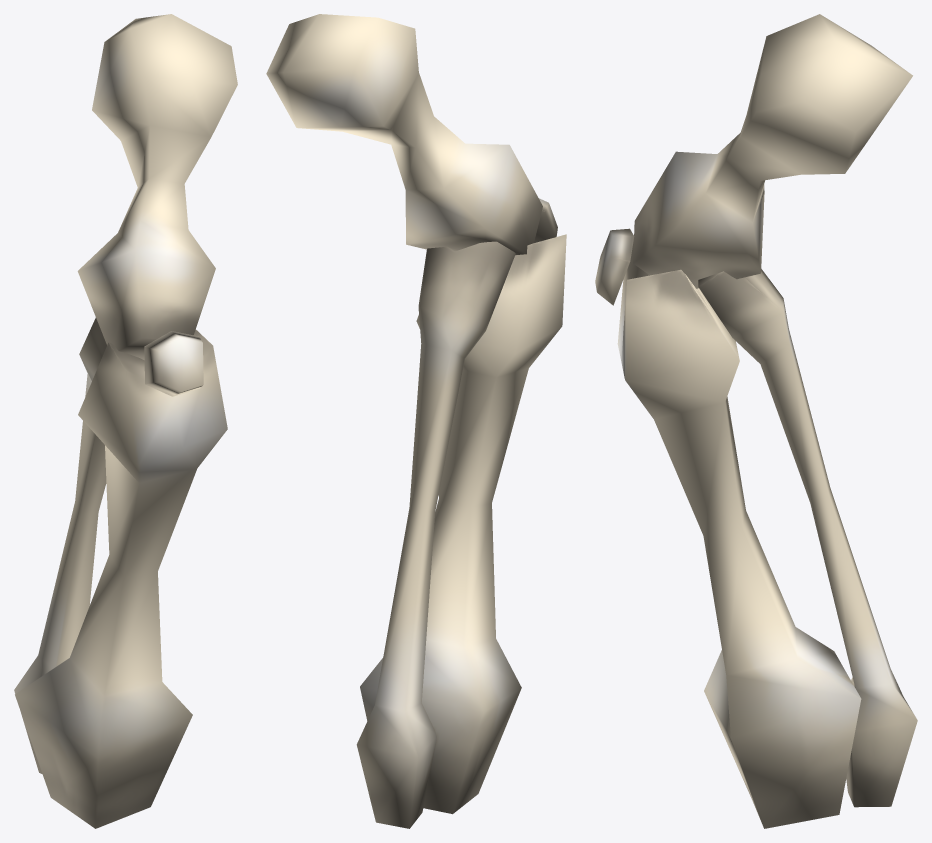
Rendered from Hueso.fbx.
The picture shows the model from 3 angles, left to right: view 1: azimuth 30°, elevation 25°; view 2: azimuth 150°, elevation 25°; view 3: azimuth 270°, elevation 25°; orthographic projection. The views are drawn at different scales.
Visible parts, largest first — view 1: pasted__Leg_Shin.R, pasted__Leg_Thigh.R; view 2: pasted__Leg_Shin.R, pasted__Leg_Thigh.R; view 3: pasted__Leg_Shin.R, pasted__Leg_Thigh.R.
Part boxes in pixels (<box>): pasted__Leg_Shin.R: <box>14,317,227,828</box>; pasted__Leg_Thigh.R: <box>77,14,237,396</box>; pasted__Leg_Shin.R: <box>356,234,566,828</box>; pasted__Leg_Thigh.R: <box>266,14,557,255</box>; pasted__Leg_Shin.R: <box>617,239,917,828</box>; pasted__Leg_Thigh.R: <box>595,14,912,305</box>.
Size of the model in its own units: 16.09 by 57.72 by 20.56.
